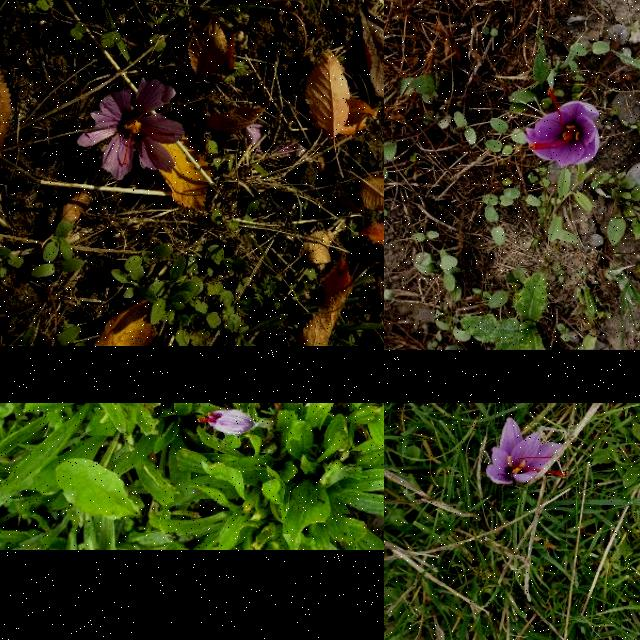flower: (76, 80, 186, 180), (526, 90, 600, 168), (486, 418, 566, 484), (196, 410, 254, 436)
